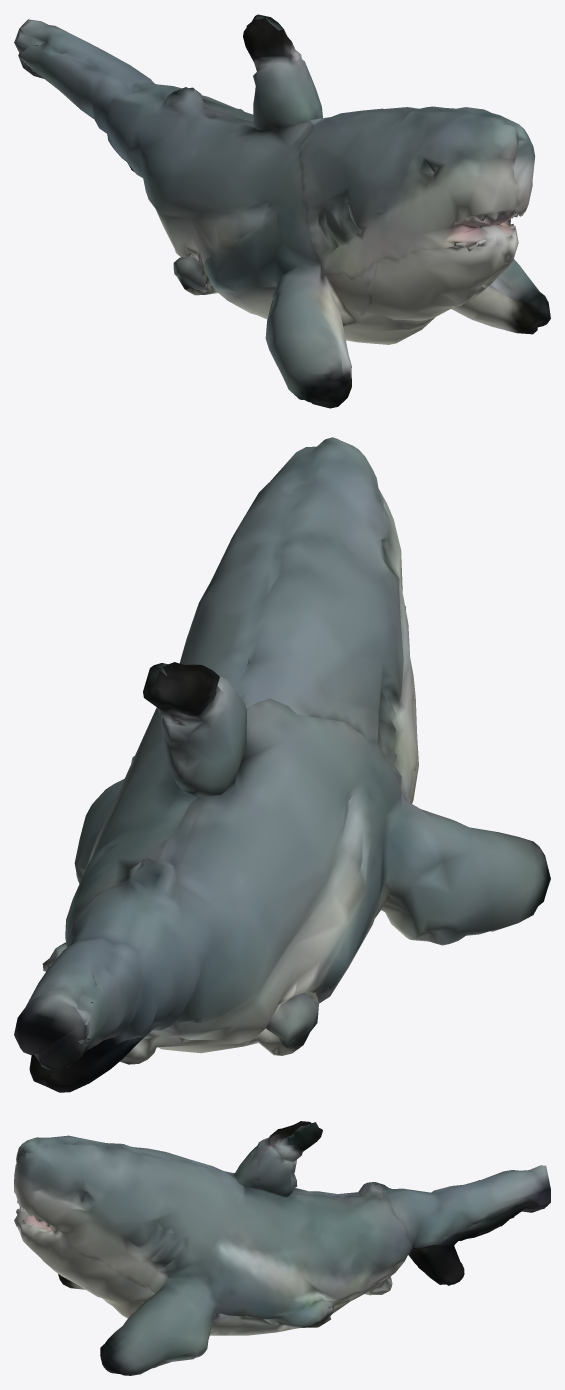
File: Shark-medium.glb
The picture shows the model from 3 angles, top to bottom: view 1: azimuth 30°, elevation 25°; view 2: azimuth 150°, elevation 25°; view 3: azimuth 270°, elevation 25°; orthographic projection. The views are drawn at different scales.
Parts seen in each view (by area): view 1: Shark; view 2: Shark; view 3: Shark.
Boxes of the visible parts, <box> form: Shark: <box>14,14,550,408</box>; Shark: <box>14,437,550,1092</box>; Shark: <box>14,1121,550,1375</box>.
Size of the model in its own units: 0.1757 by 0.1609 by 0.386.
1 material, 1 textured.
